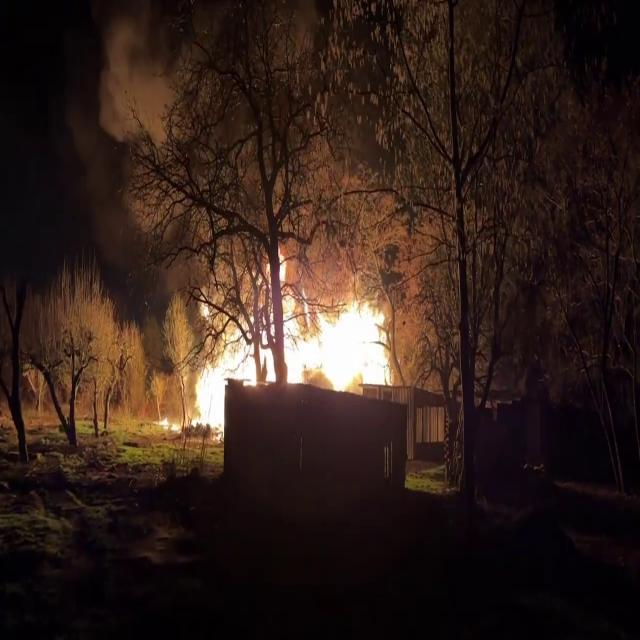Fire: (180, 256, 398, 426)
Smoke: (87, 6, 464, 244)
